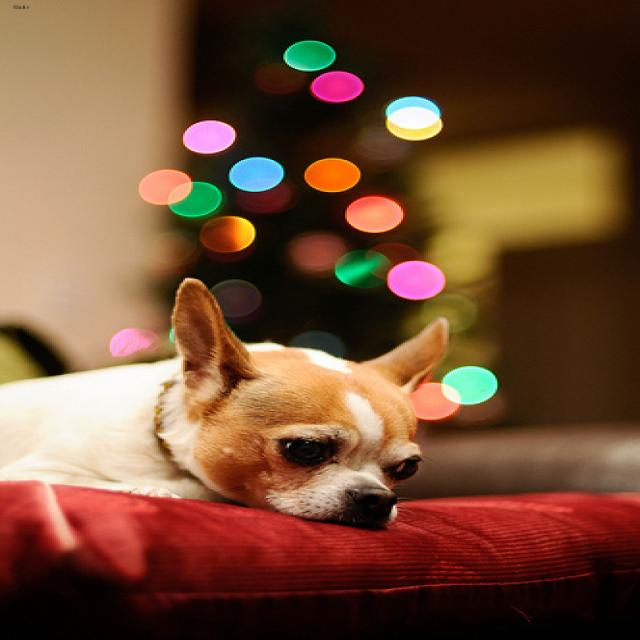dog-chihuahua: (2, 273, 461, 532)
